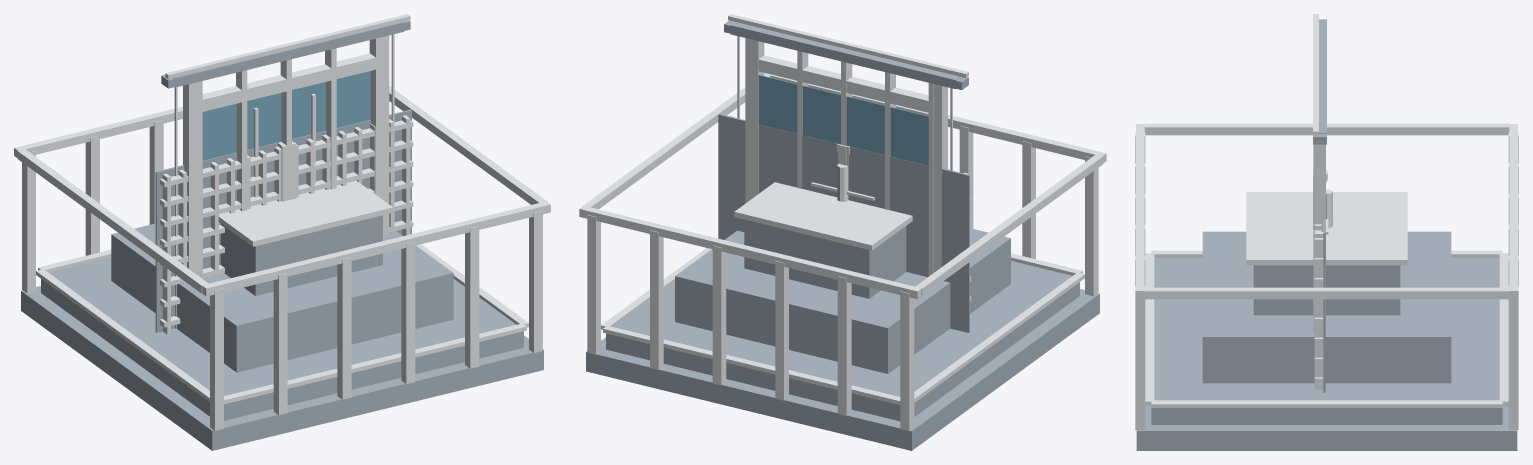
The model's file is tower-kit.glb.
3 views of the same model, side by side, from view 1: azimuth 30°, elevation 25°; view 2: azimuth 150°, elevation 25°; view 3: azimuth 270°, elevation 25° (orthographic).
Parts seen in each view (by area): view 1: crown_stepped_02__t2, crown_stepped_02__t1, crown_flat_fins_01__cap, lobby_finned_03__pane, crown_stepped_02__t3, crown_stepped_02__cap, louvre_slats_01__plate, crown_flat_fins_01__frame_a, lobby_portal_01__pane, crown_flat_fins_01__frame_c, lobby_portal_01__head, lobby_portal_01__post (+36 smaller); view 2: crown_stepped_02__t2, crown_stepped_02__t1, louvre_slats_01__plate, crown_flat_fins_01__cap, crown_stepped_02__cap, lobby_finned_03__pane, crown_stepped_02__t3, crown_flat_fins_01__frame_b, lobby_portal_01__pane, crown_flat_fins_01__frame_c, lobby_portal_01__head, crown_flat_fins_01__frame_c.001 (+25 smaller); view 3: crown_stepped_02__t2, crown_stepped_02__t1, crown_stepped_02__cap, crown_flat_fins_01__cap, crown_stepped_02__t3, crown_flat_fins_01__frame_c.001, crown_flat_fins_01__frame_c, crown_stepped_02__t1_coping.002, crown_flat_fins_01__frame_b, crown_flat_fins_01__frame_a, crown_flat_fins_01__fin.010, crown_flat_fins_01__fin.011 (+9 smaller).
Part boxes in pixels (x1,y1,x2,y2): crown_stepped_02__t2: (111,223,453,372); crown_stepped_02__t1: (41,257,523,420); crown_flat_fins_01__cap: (21,286,543,450); lobby_finned_03__pane: (202,71,370,160); crown_stepped_02__t3: (220,215,382,295); crown_stepped_02__cap: (218,180,393,246); louvre_slats_01__plate: (155,109,411,332); crown_flat_fins_01__frame_a: (202,201,550,296); lobby_portal_01__pane: (202,71,369,160); crown_flat_fins_01__frame_c: (17,149,208,293); lobby_portal_01__head: (190,53,375,114); lobby_portal_01__post: (183,82,197,274); crown_stepped_02__t2: (675,228,1010,373); crown_stepped_02__t1: (606,261,1079,421); louvre_slats_01__plate: (718,114,969,332); crown_flat_fins_01__cap: (586,289,1099,450); crown_stepped_02__cap: (734,182,912,250); lobby_finned_03__pane: (758,75,928,165); crown_stepped_02__t3: (744,219,906,298); crown_flat_fins_01__frame_b: (579,206,921,299); lobby_portal_01__pane: (759,75,926,163); crown_flat_fins_01__frame_c: (915,155,1103,296); lobby_portal_01__head: (746,55,938,113); crown_flat_fins_01__frame_c.001: (582,74,770,209); crown_stepped_02__t2: (1202,231,1451,383); crown_stepped_02__t1: (1151,257,1502,424); crown_stepped_02__cap: (1246,192,1407,265); crown_flat_fins_01__cap: (1136,405,1517,450); crown_stepped_02__t3: (1253,265,1400,315); crown_flat_fins_01__frame_c.001: (1144,287,1509,299); crown_flat_fins_01__frame_c: (1144,123,1509,135); crown_stepped_02__t1_coping.002: (1151,400,1502,407); crown_flat_fins_01__frame_b: (1509,124,1517,298); crown_flat_fins_01__frame_a: (1136,124,1144,298); crown_flat_fins_01__fin.010: (1508,286,1518,430); crown_flat_fins_01__fin.011: (1135,286,1145,430).
Size of the model in its own units: 5.42 by 4.49 by 5.24.
